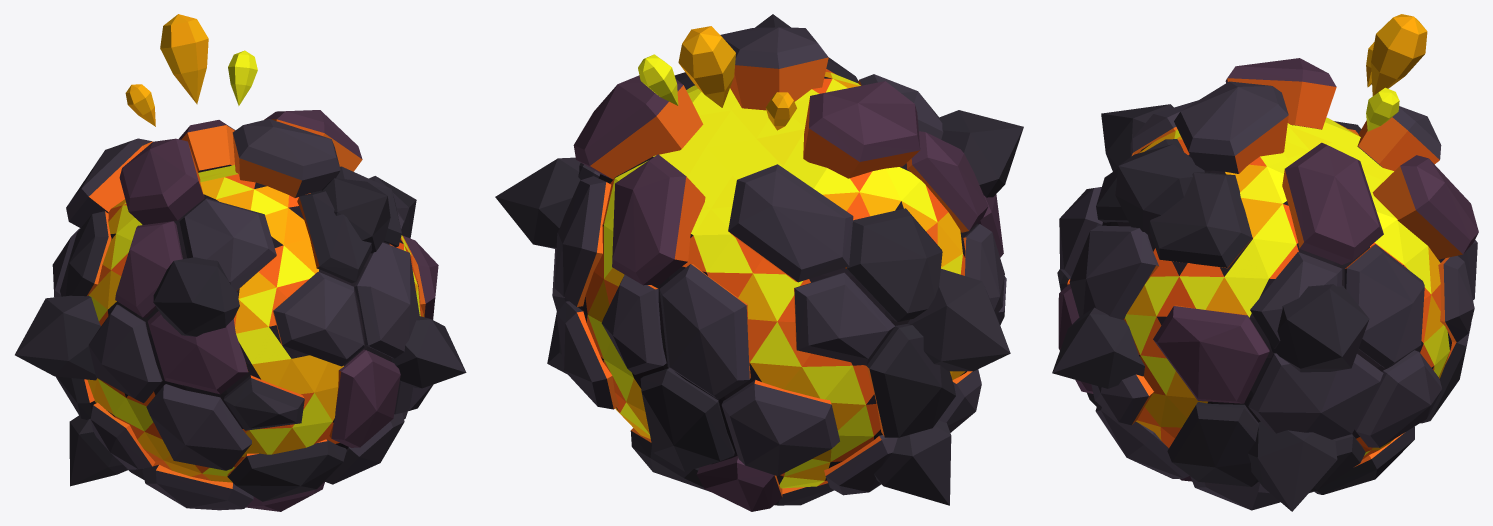
File: Ball_09_Volcano.glb
3 views of the same model, side by side, from view 1: azimuth 30°, elevation 25°; view 2: azimuth 150°, elevation 25°; view 3: azimuth 270°, elevation 25° (orthographic). The views are drawn at different scales.
Visible parts, largest first — view 1: Ball_09_Volcano.001; view 2: Ball_09_Volcano.001; view 3: Ball_09_Volcano.001.
Part boxes in pixels (box(x1,y1,x2,y2)): Ball_09_Volcano.001: box(15, 14, 466, 511); Ball_09_Volcano.001: box(495, 14, 1023, 511); Ball_09_Volcano.001: box(1052, 14, 1478, 511).
Size of the model in its own units: 2.57 by 2.56 by 2.08.
Materials: 1 (1 with a texture image).
